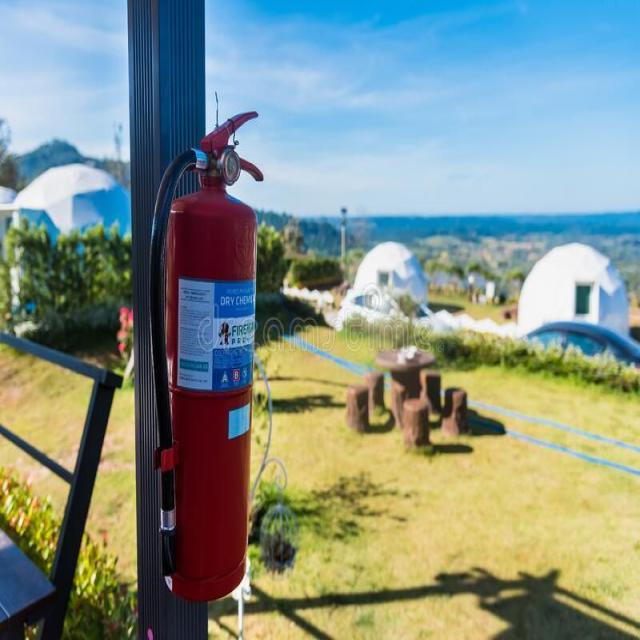fire_extinguisher: (144, 107, 265, 606)
